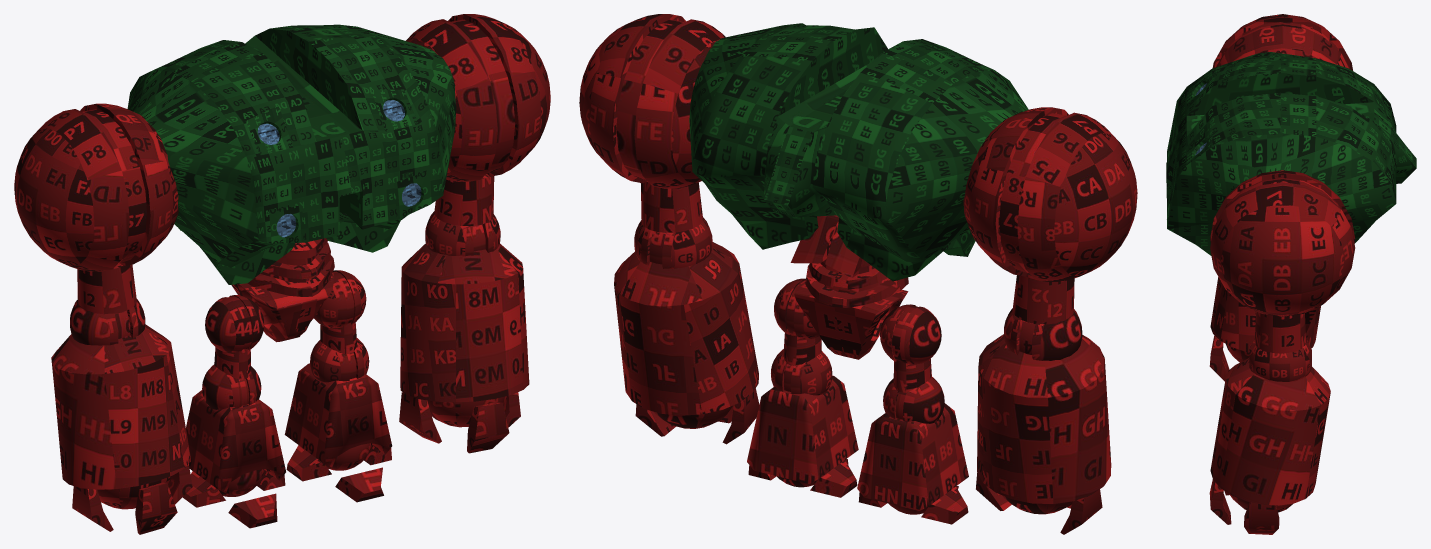
The model's file is ROBOT_20.fbx.
The picture shows the model from 3 angles, left to right: view 1: azimuth 30°, elevation 25°; view 2: azimuth 150°, elevation 25°; view 3: azimuth 270°, elevation 25°; orthographic projection. The views are drawn at different scales.
Visible parts, largest first — view 1: TORSO_V8:CHEST, R_SHOULDER, L_FOREARM, R_FOREARM, L_SHOULDER, L_SHIN, R_SHIN, ABS, PELVIS, R_HIP, R_ARM, L_ARM (+20 smaller); view 2: TORSO_V8:CHEST, R_SHOULDER, L_FOREARM, R_FOREARM, L_SHOULDER, L_SHIN, R_SHIN, ABS, PELVIS, R_HIP, R_ELBOW, L_ELBOW (+12 smaller); view 3: TORSO_V8:CHEST, L_SHOULDER, L_FOREARM, R_SHOULDER, R_FOREARM, L_ARM, L_ELBOW, L_FINGER_03, L_FINGER_02, R_FINGER_02.
Part boxes in pixels (x1,y1,x2,y2): TORSO_V8:CHEST: [127, 24, 456, 284]; R_SHOULDER: [14, 103, 178, 271]; L_FOREARM: [400, 243, 529, 402]; R_FOREARM: [51, 324, 190, 489]; L_SHOULDER: [406, 14, 550, 181]; L_SHIN: [284, 363, 392, 467]; R_SHIN: [186, 390, 285, 493]; ABS: [247, 238, 334, 296]; PELVIS: [231, 273, 334, 342]; R_HIP: [205, 295, 264, 352]; R_ARM: [77, 263, 136, 314]; L_ARM: [434, 173, 494, 226]; TORSO_V8:CHEST: [689, 23, 1028, 281]; R_SHOULDER: [963, 107, 1137, 281]; L_FOREARM: [614, 242, 758, 415]; R_FOREARM: [977, 334, 1111, 503]; L_SHOULDER: [579, 14, 725, 188]; L_SHIN: [747, 375, 858, 483]; R_SHIN: [857, 403, 968, 510]; ABS: [790, 215, 908, 307]; PELVIS: [794, 280, 908, 359]; R_HIP: [880, 304, 941, 364]; R_ELBOW: [1004, 308, 1082, 360]; L_ELBOW: [634, 217, 712, 268]; TORSO_V8:CHEST: [1166, 52, 1416, 255]; L_SHOULDER: [1210, 170, 1355, 316]; L_FOREARM: [1210, 358, 1330, 505]; R_SHOULDER: [1212, 14, 1352, 70]; R_FOREARM: [1210, 277, 1320, 352]; L_ARM: [1254, 311, 1306, 353]; L_ELBOW: [1249, 340, 1311, 381]; L_FINGER_03: [1244, 502, 1279, 534]; L_FINGER_02: [1209, 479, 1231, 524]; R_FINGER_02: [1209, 335, 1229, 381].
Bounding box in the file's own units: 4.46 × 3.66 × 2.16.
3 materials, 3 textured.
